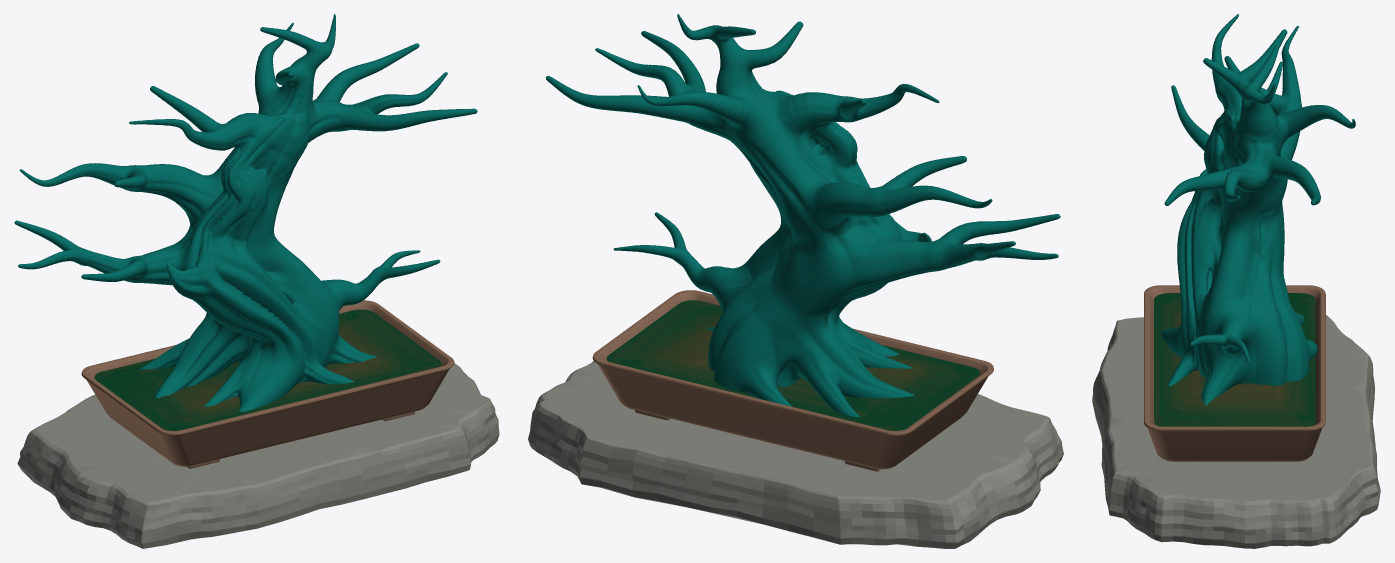
The model's file is hero-v07.glb.
The picture shows the model from 3 angles, left to right: view 1: azimuth 30°, elevation 25°; view 2: azimuth 150°, elevation 25°; view 3: azimuth 270°, elevation 25°; orthographic projection. The views are drawn at different scales.
Parts seen in each view (by area): view 1: Continuous aged trunk and primary branches, Low split natural bedding stone, Shallow unglazed pot, Continuous planted soil; view 2: Continuous aged trunk and primary branches, Low split natural bedding stone, Shallow unglazed pot, Continuous planted soil; view 3: Continuous aged trunk and primary branches, Low split natural bedding stone, Continuous planted soil, Shallow unglazed pot.
Boxes of the visible parts, x1,y1,x2,y2 form: Continuous aged trunk and primary branches: [14, 14, 477, 411]; Low split natural bedding stone: [17, 363, 499, 548]; Shallow unglazed pot: [81, 300, 454, 466]; Continuous planted soil: [94, 309, 441, 430]; Continuous aged trunk and primary branches: [546, 14, 1060, 417]; Low split natural bedding stone: [528, 361, 1063, 548]; Shallow unglazed pot: [592, 290, 993, 469]; Continuous planted soil: [606, 300, 980, 430]; Continuous aged trunk and primary branches: [1162, 14, 1355, 405]; Low split natural bedding stone: [1092, 315, 1380, 548]; Continuous planted soil: [1154, 293, 1315, 426]; Shallow unglazed pot: [1144, 285, 1325, 461].
Bounding box in the file's own units: 2.48 × 2.15 × 1.36.
